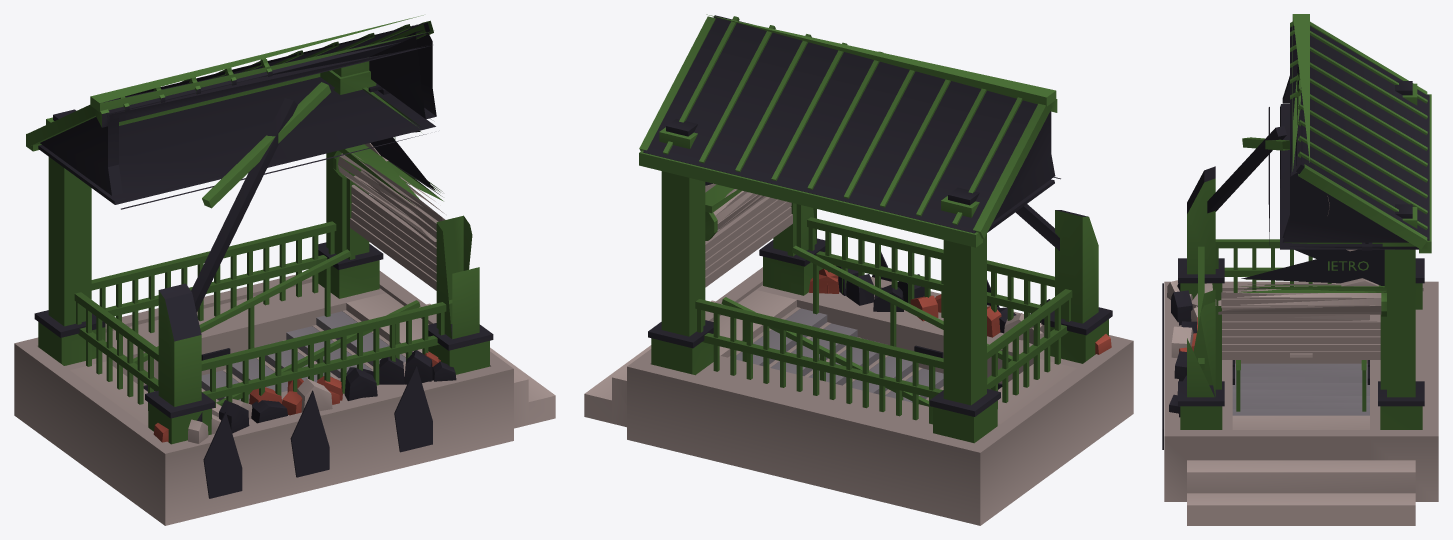
The model's file is bld.metro-entrance.w6.lod1.glb.
The picture shows the model from 3 angles, left to right: view 1: azimuth 30°, elevation 25°; view 2: azimuth 150°, elevation 25°; view 3: azimuth 270°, elevation 25°; orthographic projection. The views are drawn at different scales.
Parts seen in each view (by area): view 1: body, shutter; view 2: body, shutter; view 3: body, shutter.
Part boxes in pixels (<box>): body: <box>14,15,555,525</box>; shutter: <box>350,169,441,290</box>; body: <box>584,14,1133,525</box>; shutter: <box>705,191,792,287</box>; body: <box>1162,14,1438,525</box>; shutter: <box>1221,292,1380,359</box>.
Bounding box in the file's own units: 7.4 × 6.48 × 4.83.
